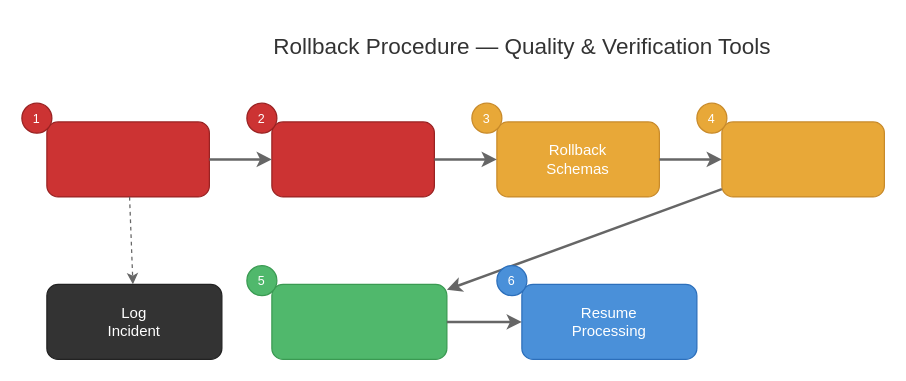
The diagram is 906 pixels wide and 381 high, and some of its shapes have lost their labels. Each missing label, with the centre of its shape:
"Detect Issue" belongs at point (127, 159).
"Halt Processing" belongs at point (352, 159).
"Restore Datasets" belongs at point (802, 159).
"Verify Rollback" belongs at point (359, 321).
